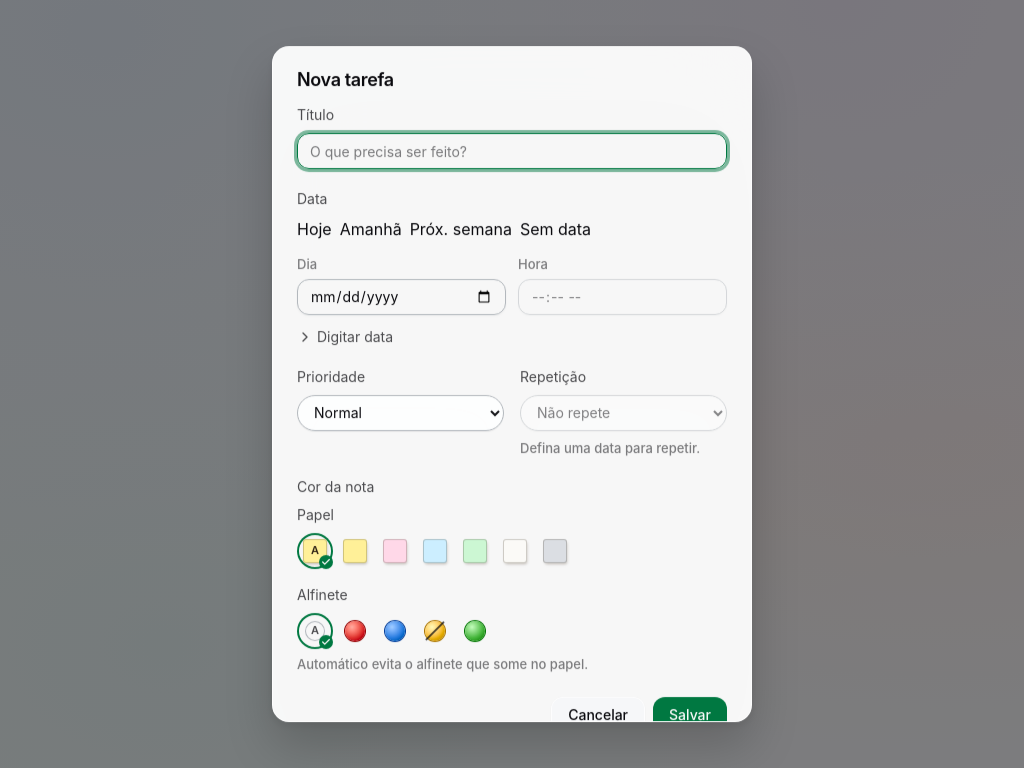
Test: closing with unsaved changes › does not close on an outside click while there are changes
Step 1. Type "Rascunho" into the field labelled "Título" → (512,151), box [297,133,727,169]
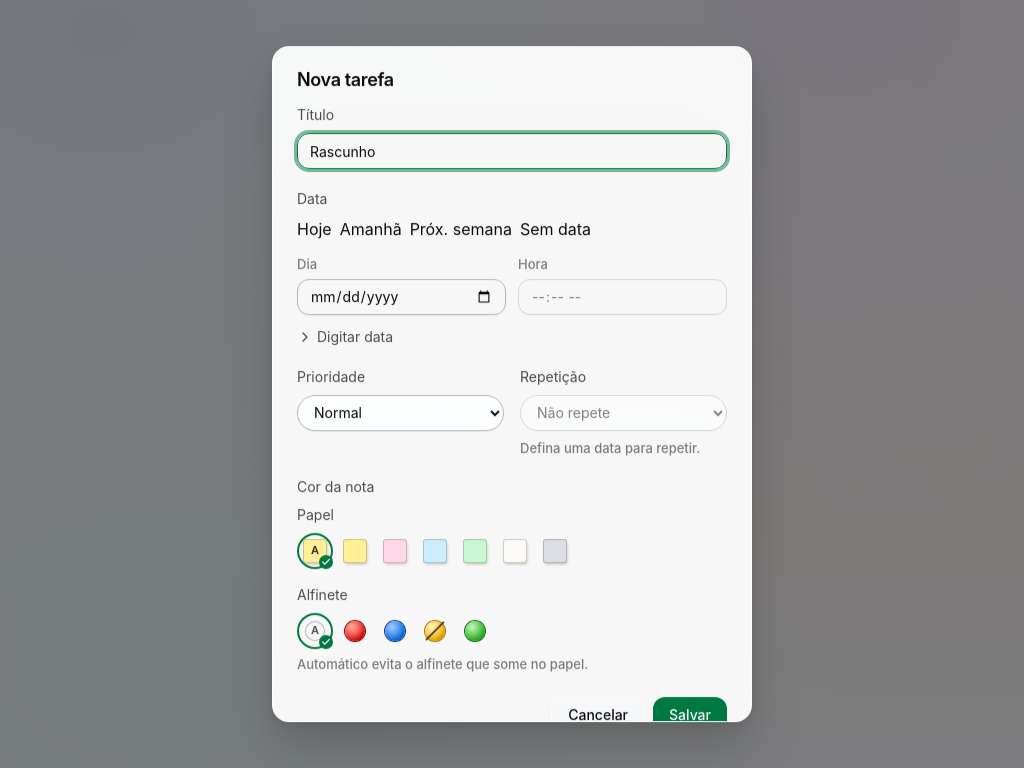
Step 2. Click the element that starts with "Nova tarefa" → (512,384), box [0,0,1023,767]
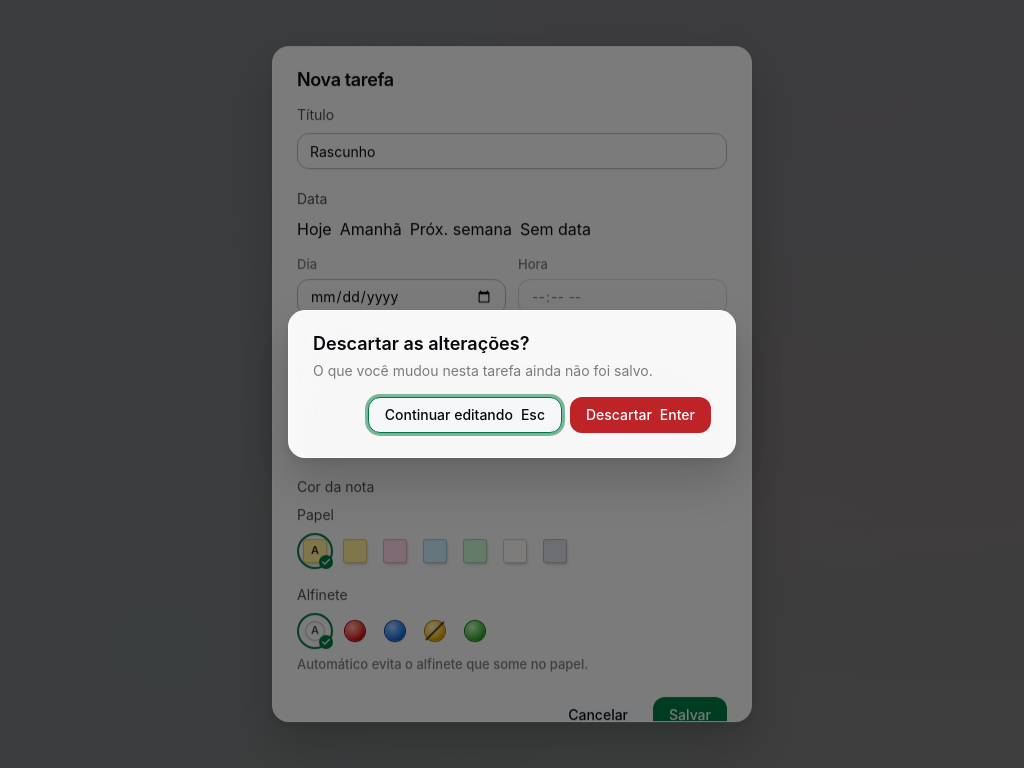
Result: the dialog "Descartar as alterações?" is shown at [288,310,736,458]
